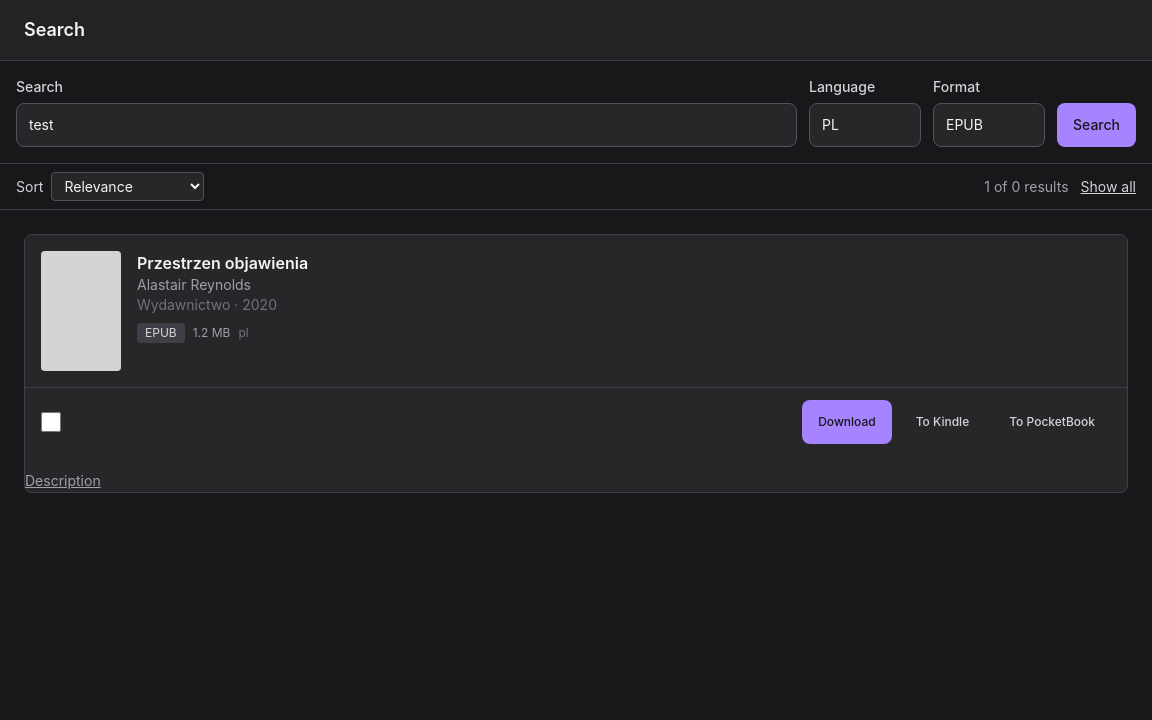
Test: Bug Fix: SearchView.handleDownload awaits promise and shows error on failure › shows error message when download fails
This screenshot has width=1152, height=720.
Click the button with test id "download-btn".
click(847, 422)  # box x1=802 y1=400 x2=892 y2=444
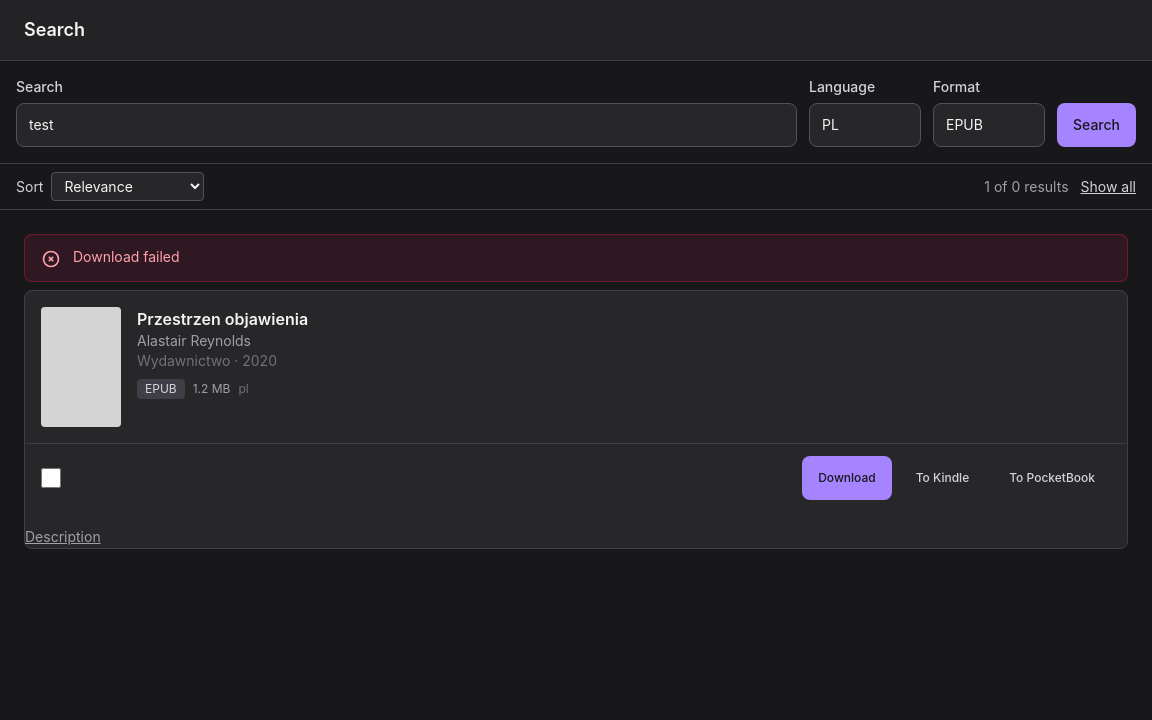
expect the text "Download failed" is shown: met, box x1=73 y1=247 x2=180 y2=267
